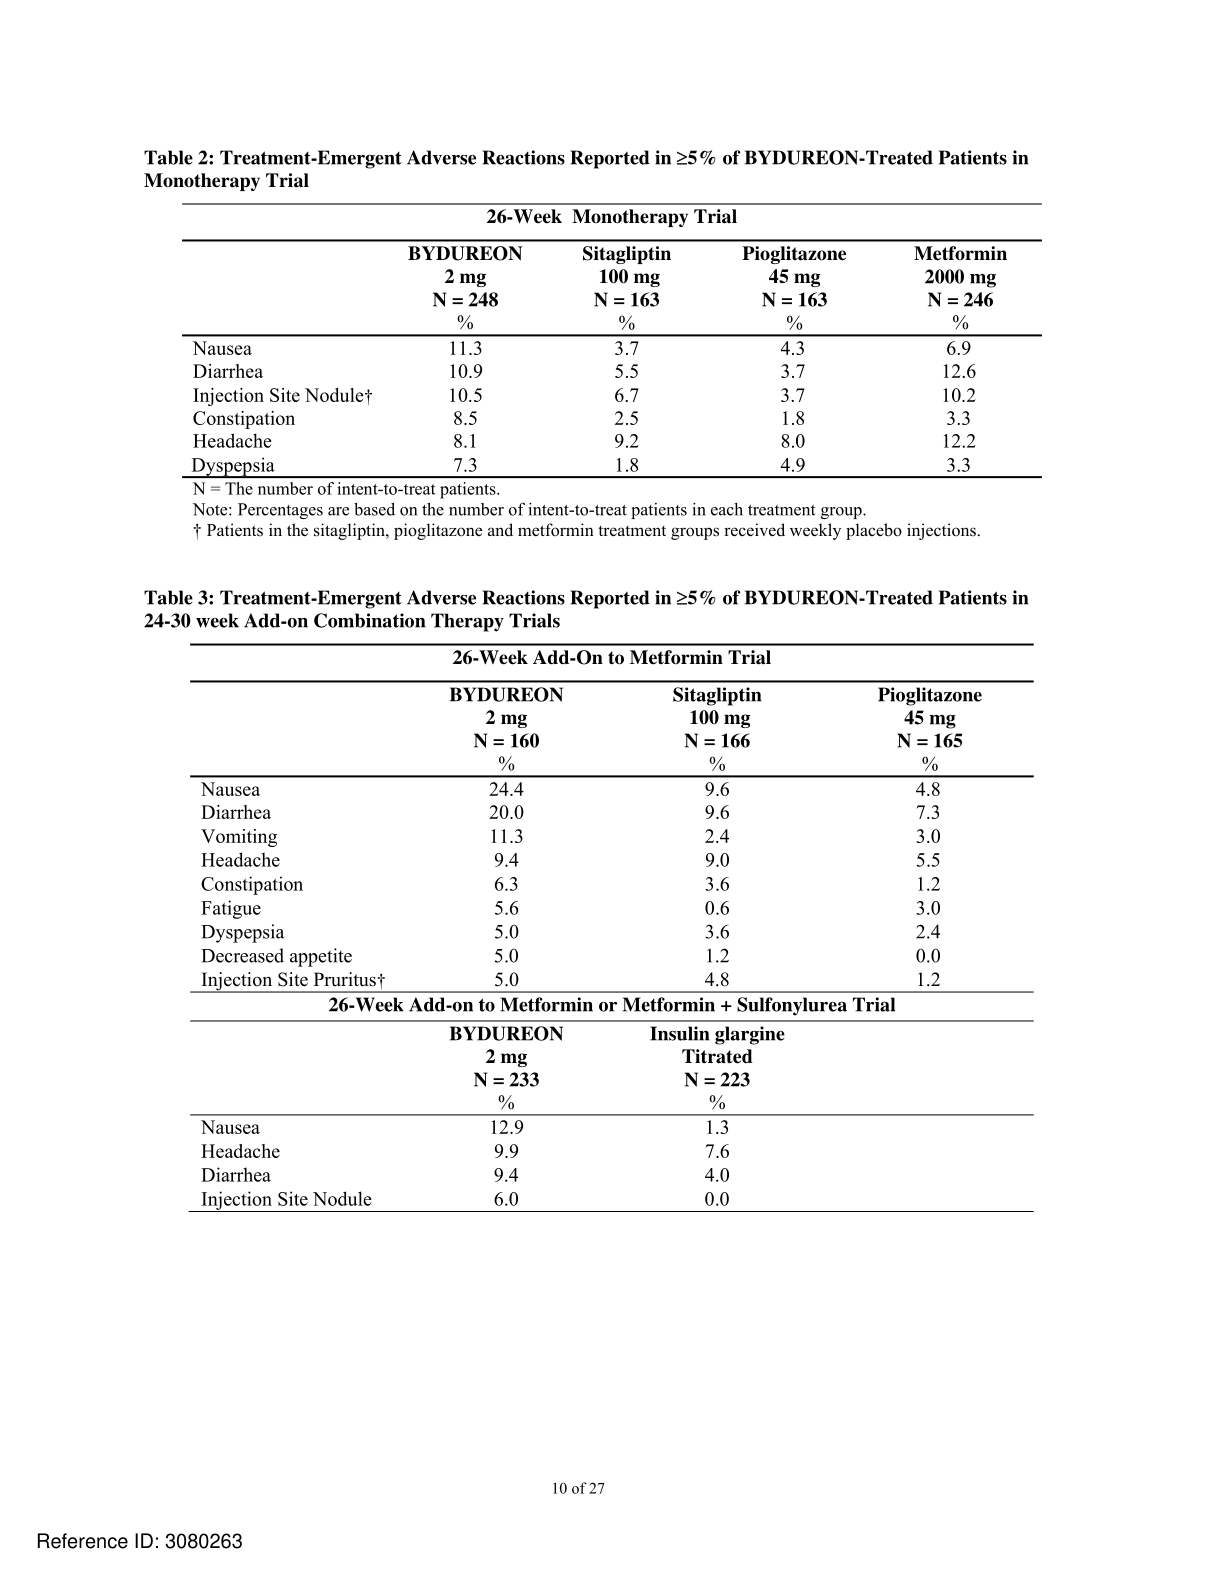partial_lined_merged_cells: (186, 640, 1038, 1218), (177, 199, 1048, 481)
